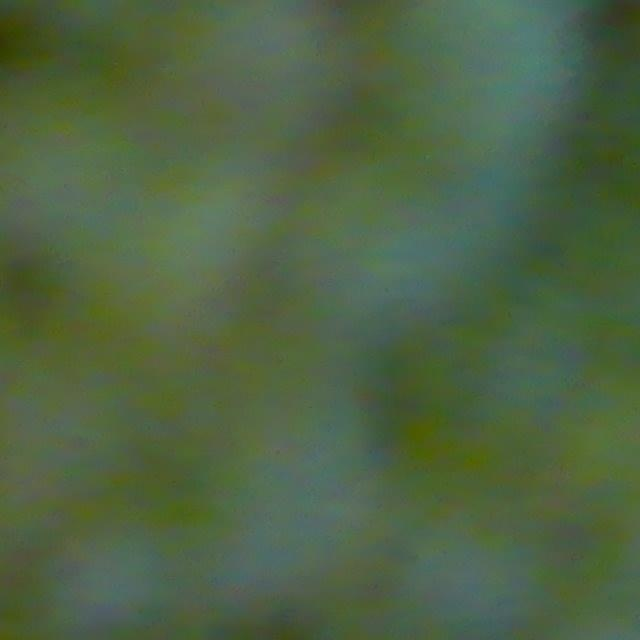SeaGrape: (371, 0, 559, 138), (163, 0, 326, 132)
